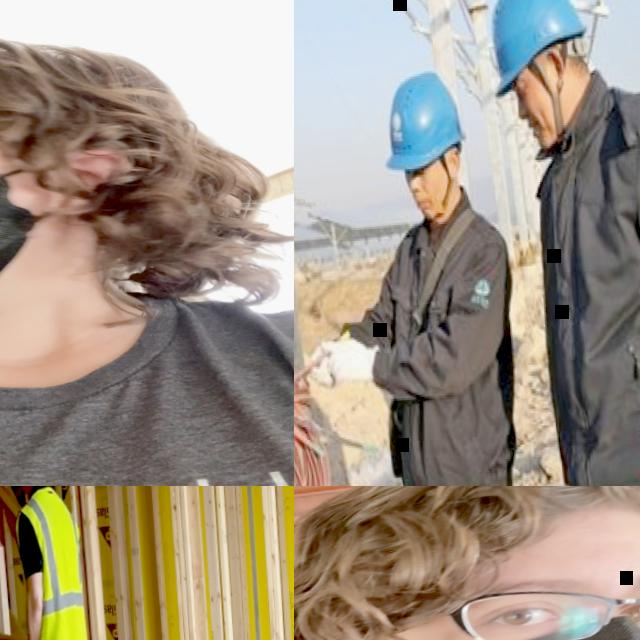Hardhat: (478, 0, 594, 96), (374, 67, 465, 172)
Mask: (0, 143, 76, 318)
NO-Hardhat: (294, 486, 640, 586), (0, 15, 178, 144)
NO-Mask: (529, 110, 567, 144), (415, 188, 445, 218), (20, 486, 29, 496)
NO-Safety Vest: (0, 282, 294, 486), (535, 115, 640, 486), (383, 224, 517, 486)
Person: (0, 1, 294, 486), (294, 63, 531, 486), (495, 0, 640, 486), (294, 486, 640, 640), (0, 486, 119, 640)
Safety Vest: (11, 486, 88, 640)
